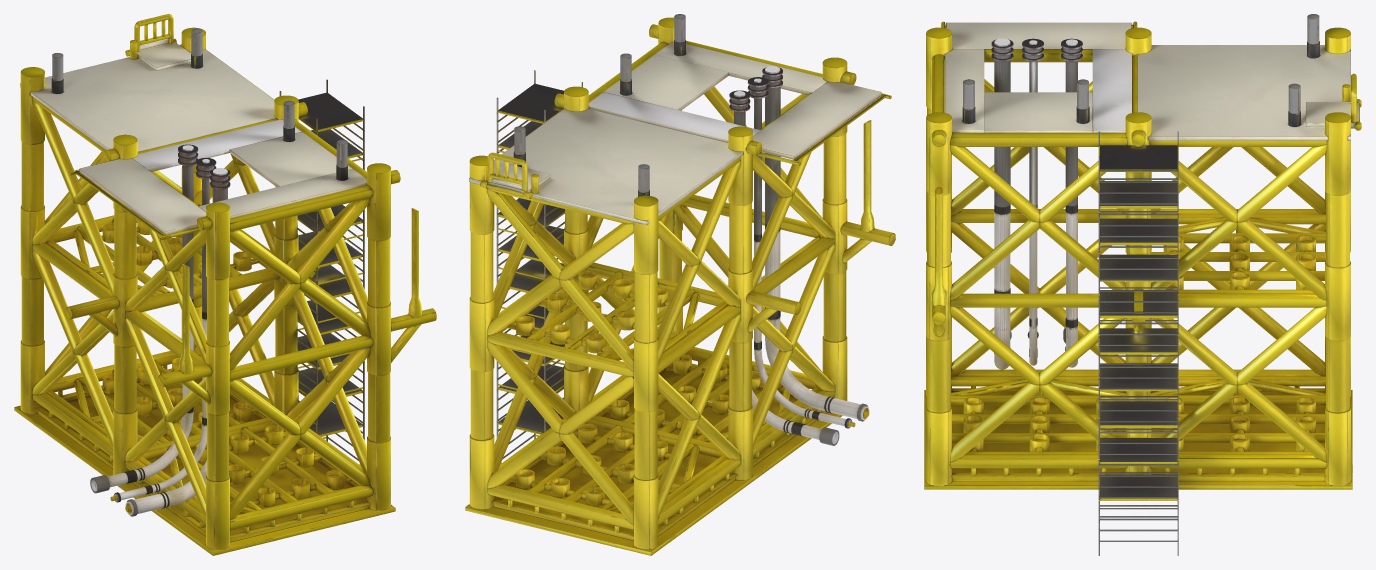
The model's file is BP Jacket_2.glb.
3 views of the same model, side by side, from view 1: azimuth 30°, elevation 25°; view 2: azimuth 150°, elevation 25°; view 3: azimuth 270°, elevation 25° (orthographic). The views are drawn at different scales.
Parts seen in each view (by area): view 1: MAIN PIPE.001, STAIRS.002, WHITE PIPE.002; view 2: MAIN PIPE.001, WHITE PIPE.002, STAIRS.002; view 3: MAIN PIPE.001, STAIRS.002, WHITE PIPE.002.
Boxes of the visible parts, x1,y1,x2,y2 form: MAIN PIPE.001: (14, 14, 436, 555); STAIRS.002: (279, 79, 364, 465); WHITE PIPE.002: (90, 144, 230, 516); MAIN PIPE.001: (465, 14, 895, 555); WHITE PIPE.002: (729, 66, 869, 445); STAIRS.002: (496, 70, 582, 463); MAIN PIPE.001: (924, 14, 1361, 489); STAIRS.002: (1098, 131, 1178, 555); WHITE PIPE.002: (991, 38, 1082, 369).
Size of the model in its own units: 8.8 by 11.86 by 10.92.
Materials: 3 (3 with a texture image).
